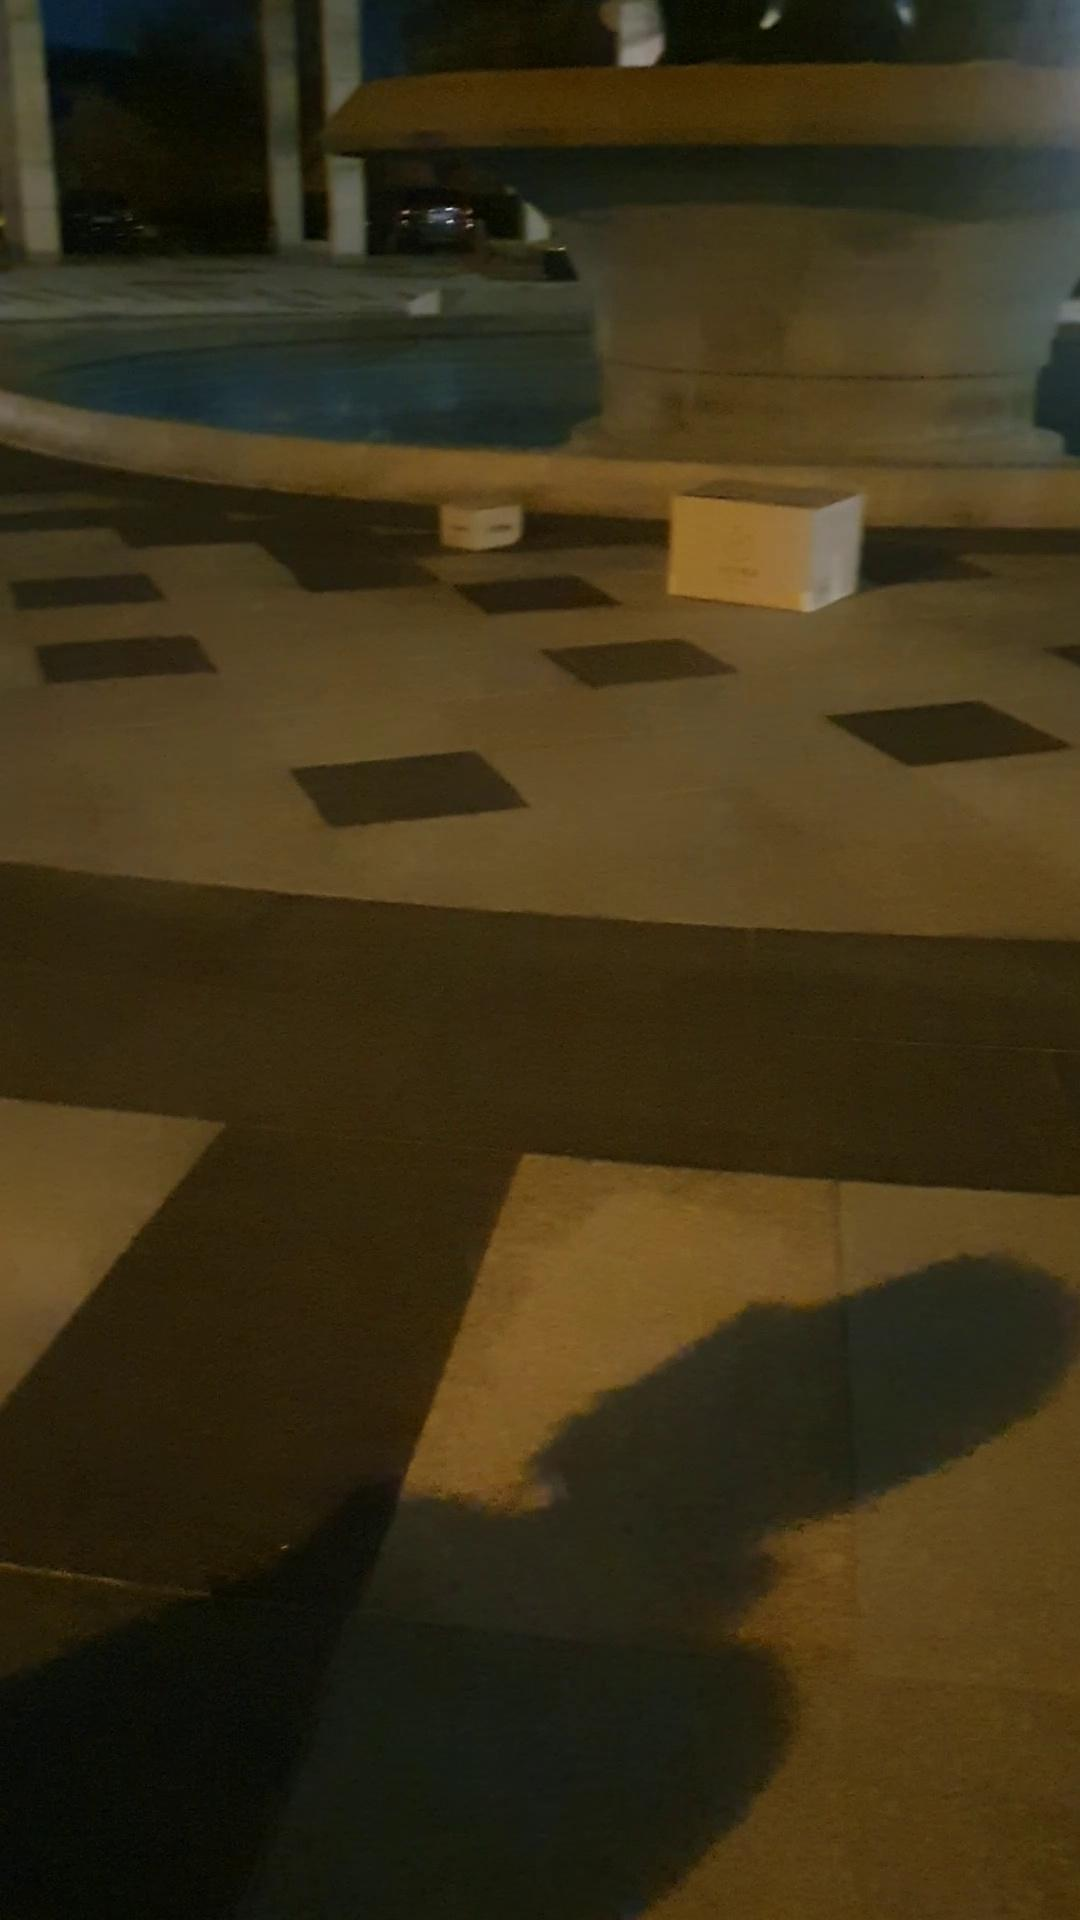Box: (666, 483, 862, 611), (448, 491, 527, 567)
